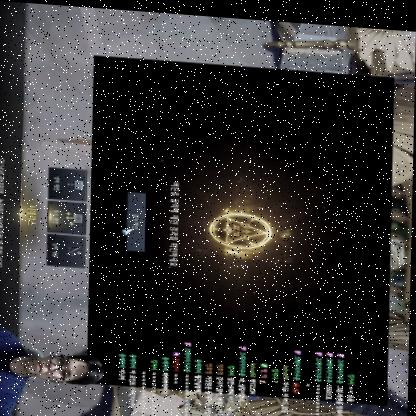streamer: (0, 316, 125, 416)
